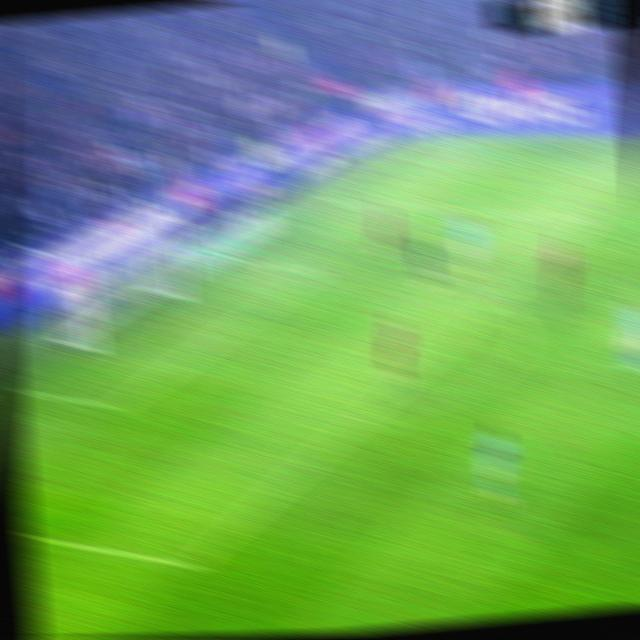bigarea_bottom_inner: (176, 551, 206, 579)
bigarea_top_inner: (581, 208, 607, 229)
bigarea_top_outter: (321, 192, 344, 207)
bottom_arc_area_intersection: (349, 408, 372, 427)
corner: (421, 134, 443, 145)
smallarea_bottom_inner: (105, 390, 134, 417)
smallarea_bottom_outter: (6, 378, 34, 400)
smallarea_top_inner: (307, 258, 333, 280)
smallarea_top_outter: (224, 251, 250, 271)
top_arc_area_intersection: (486, 288, 511, 309)
